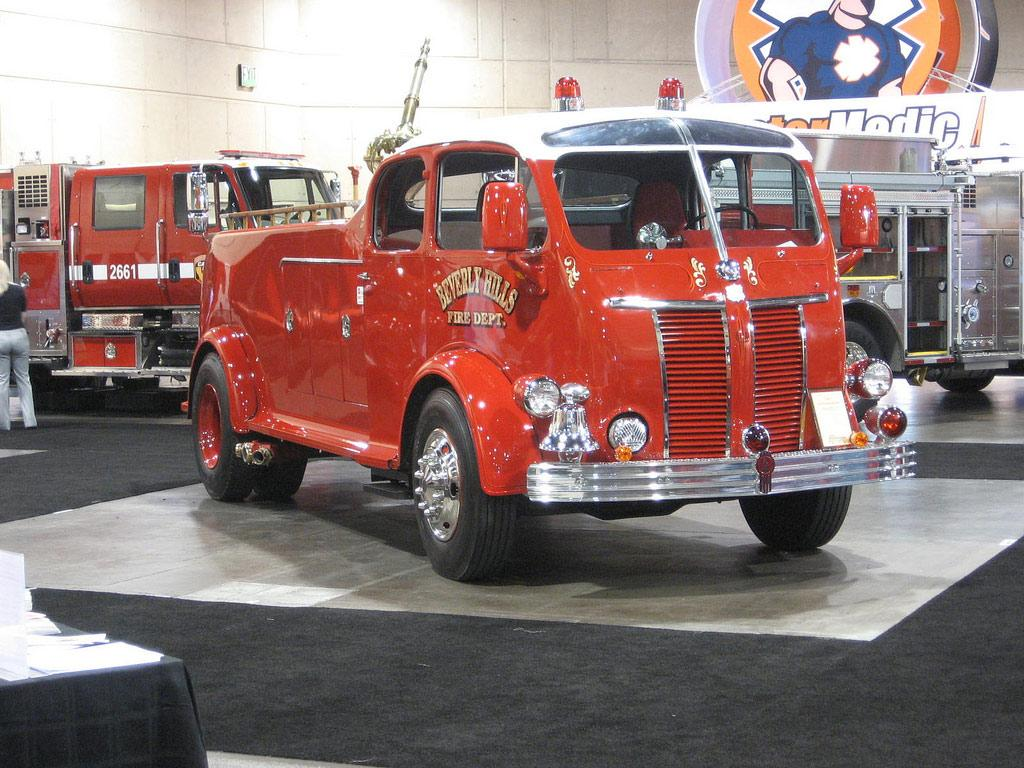Fire-engine: (183, 65, 918, 582), (0, 148, 359, 411)
